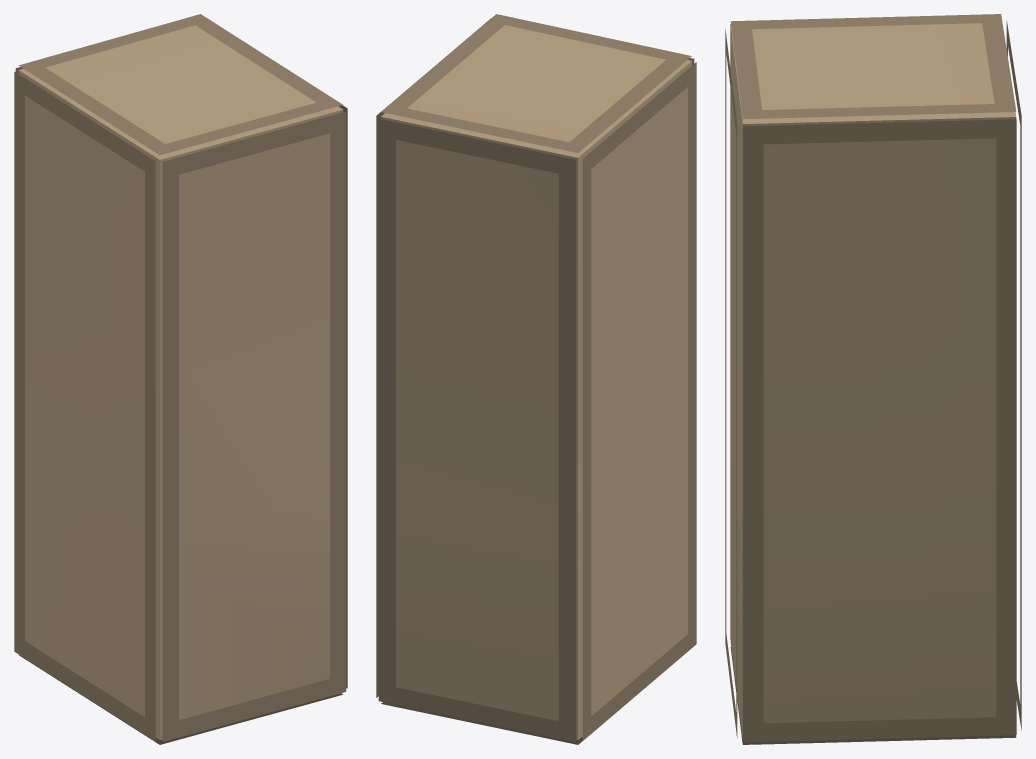
File: key-2.glb
The picture shows the model from 3 angles, left to right: view 1: azimuth 30°, elevation 25°; view 2: azimuth 150°, elevation 25°; view 3: azimuth 270°, elevation 25°; orthographic projection. The views are drawn at different scales.
Visible parts, largest first — view 1: key-2; view 2: key-2; view 3: key-2.
Boxes of the visible parts, bbox=[...] form: key-2: bbox=[14, 14, 347, 744]; key-2: bbox=[376, 14, 696, 744]; key-2: bbox=[725, 14, 1021, 744].
Size of the model in its own units: 0.0191 by 0.0507 by 0.0218.
